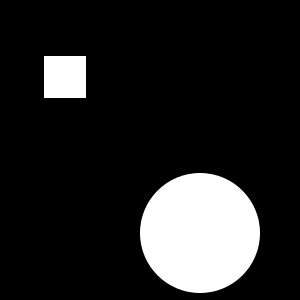circle: (44, 56, 86, 98)
rectangle: (140, 173, 260, 293)
